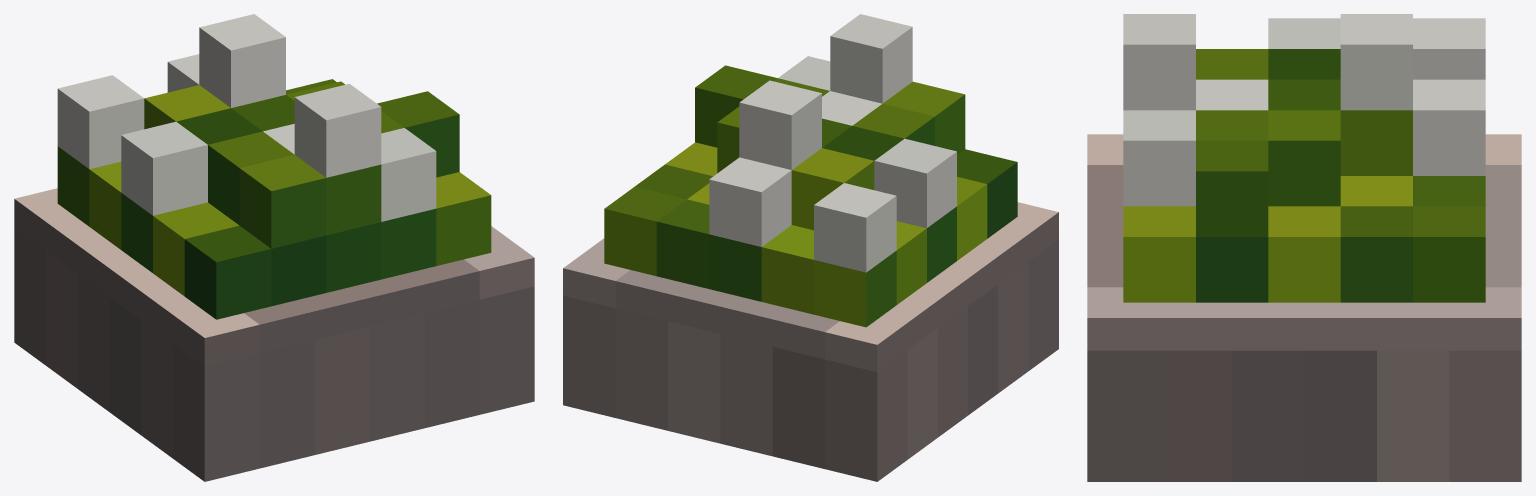
File: planter.glb
3 renders of one model, left to right at view 1: azimuth 30°, elevation 25°; view 2: azimuth 150°, elevation 25°; view 3: azimuth 270°, elevation 25°, orthographic. The views are drawn at different scales.
Parts seen in each view (by area): view 1: box; view 2: box; view 3: box.
Boxes of the visible parts, <box> form: box: <box>14,14,534,481</box>; box: <box>563,14,1058,481</box>; box: <box>1087,14,1521,481</box>.
Bounding box in the file's own units: 1.2 × 1.1 × 1.2.
